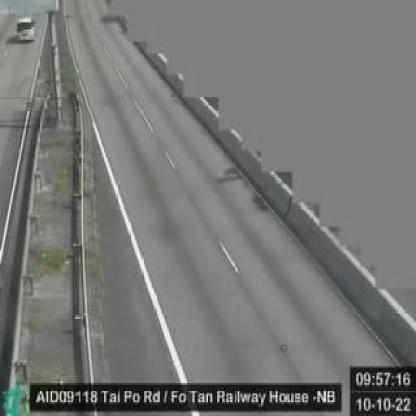Car: (16, 15, 36, 42)
